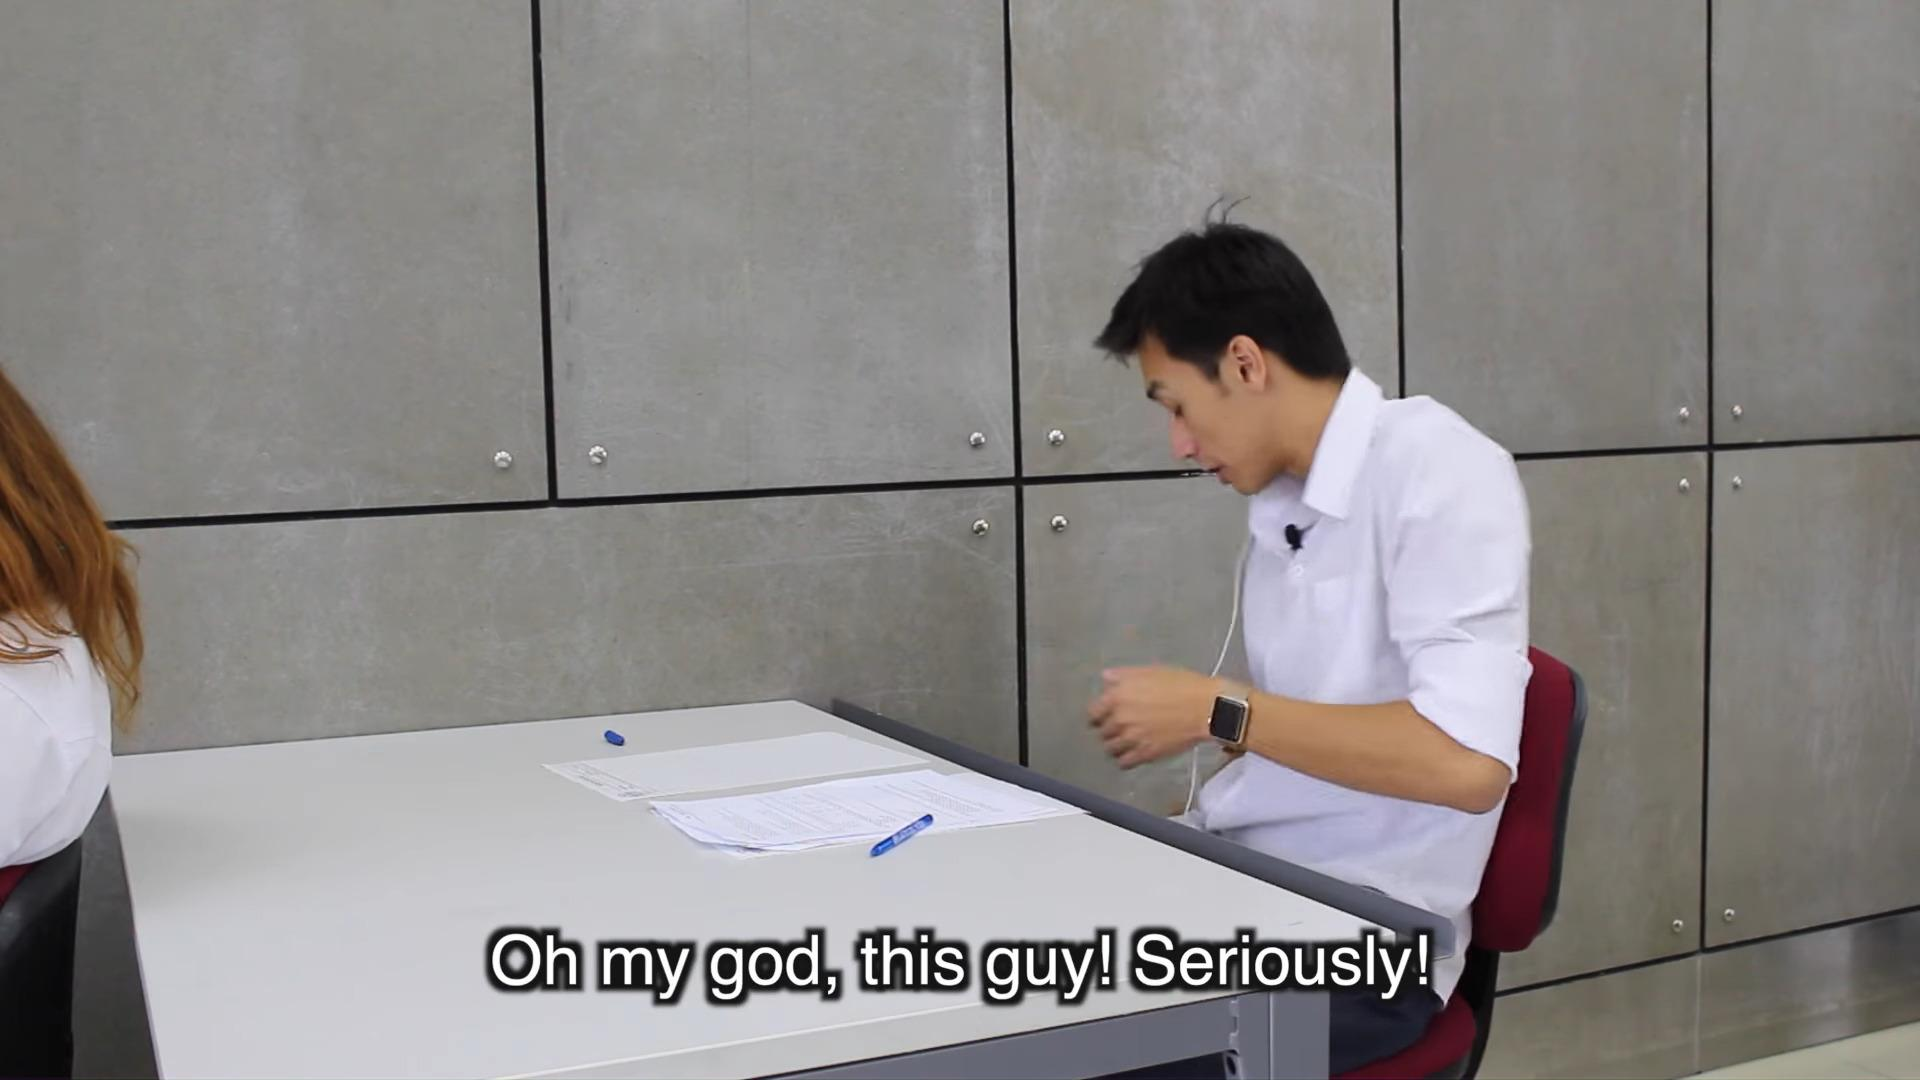cheating: (530, 200, 1598, 913)
